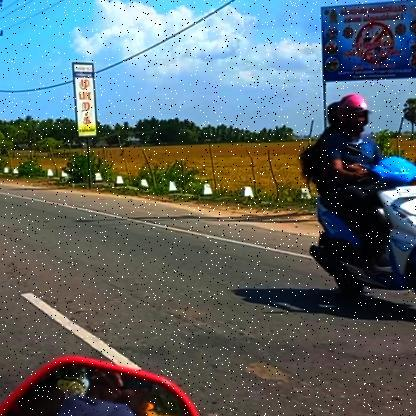motorcycle: (298, 155, 416, 328)
